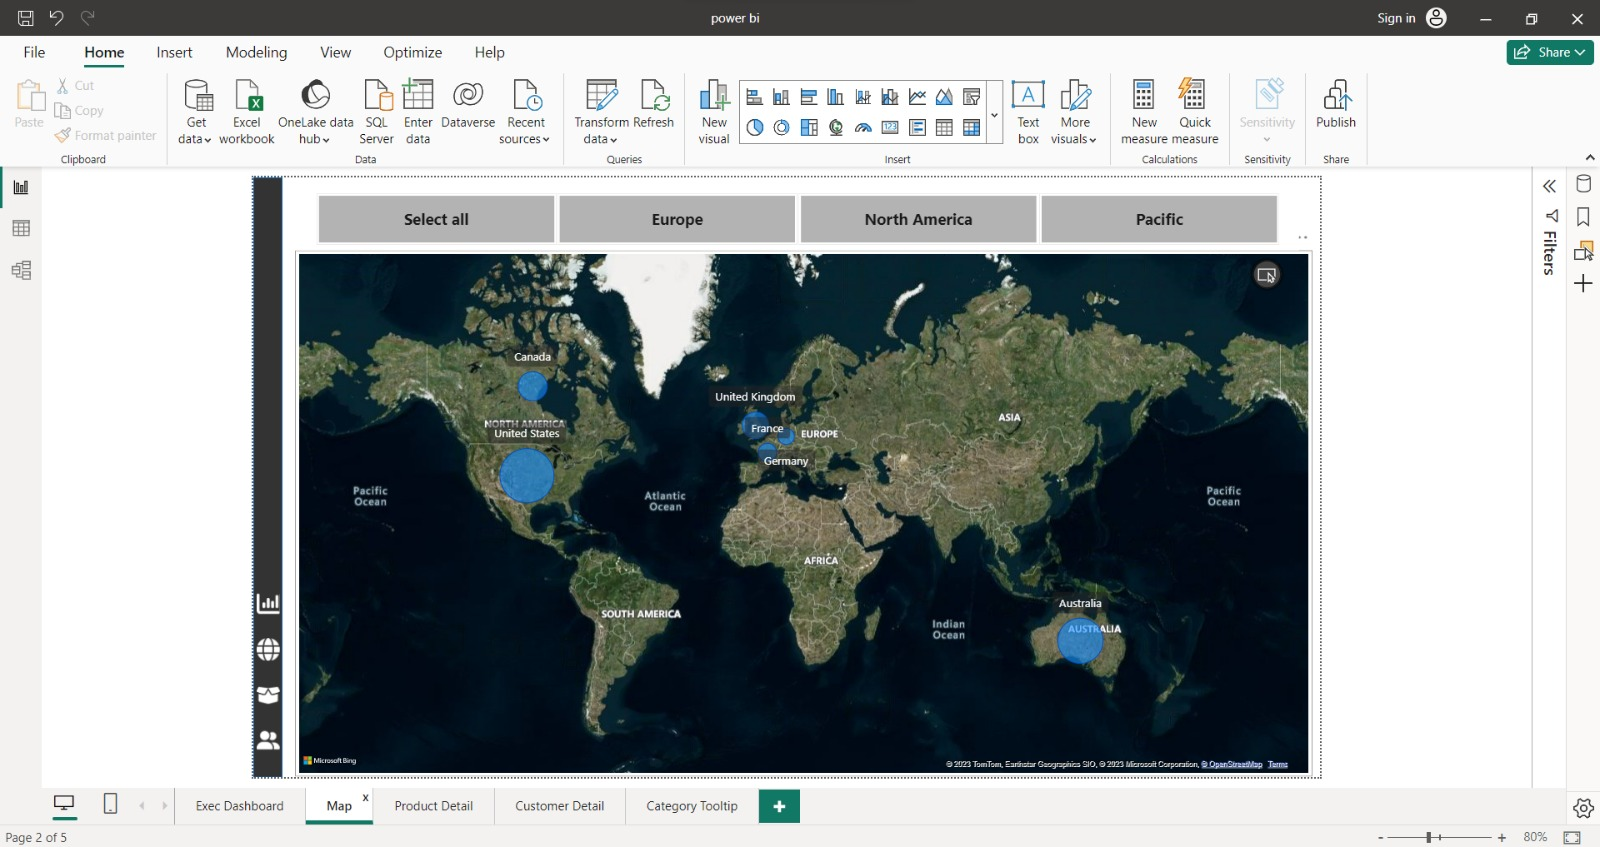

What the dashboard file says about the page in this screenshot:
{"tool":"powerbi","page":{"name":"Map","canvas":[1280,720],"ordinal":1},"visuals":[{"type":"shape","box":[0,0,35,720.5],"z":0},{"type":"actionButton","title":"Button","box":[0,492.9,35.7,38.6],"z":0,"group":"g1"},{"type":"actionButton","box":[0,547.7,35.7,38.6],"z":1000,"group":"g1"},{"type":"map","fields":{"Category":["Territory Lookup.Country"],"Size":["Measure Table.Total Orders"]},"box":[50,87.5,1221.2,632.5],"z":1000},{"type":"slicer","fields":{"Values":["Territory Lookup.Continent"]},"box":[50,12.5,1205,75],"z":2000},{"type":"actionButton","box":[0,602.4,35.7,38.6],"z":2000,"group":"g1"},{"type":"actionButton","title":"Button","box":[0,657.2,35.7,38.6],"z":3000,"group":"g1"},{"type":"group","id":"g1","title":"Navigation Buttons","box":[0,492.9,35.7,202.9],"z":3000}]}

Visuals, with their boxes on the page's 1280x720 design canvas (x1, y1, x2, y2). These are canvas units, not pixel positions in the 1600x847 screenshot, which may show the page scaled, cropped or inside an application window:
shape: crop(0, 0, 35, 720)
"Button" actionButton: crop(0, 493, 36, 532)
actionButton: crop(0, 548, 36, 586)
map - Territory Lookup.Country x Measure Table.Total Orders: crop(50, 88, 1271, 720)
slicer - Territory Lookup.Continent: crop(50, 12, 1255, 88)
actionButton: crop(0, 602, 36, 641)
"Button" actionButton: crop(0, 657, 36, 696)
"Navigation Buttons" group: crop(0, 493, 36, 696)
